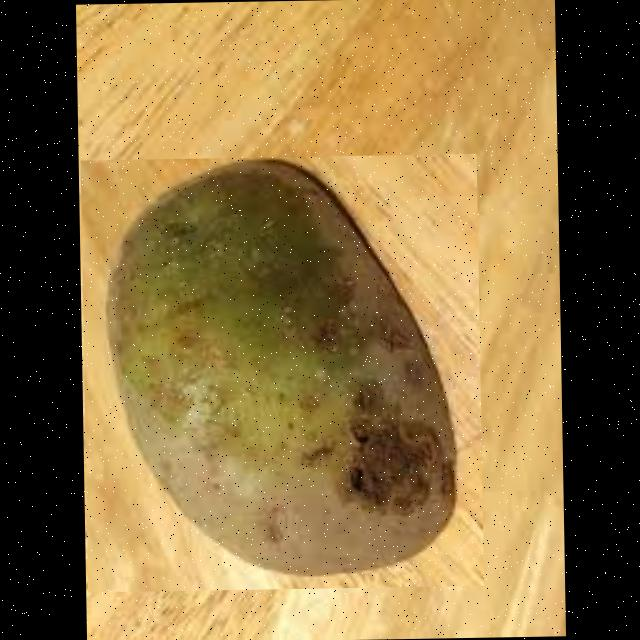Defected potato: (80, 153, 482, 592)
